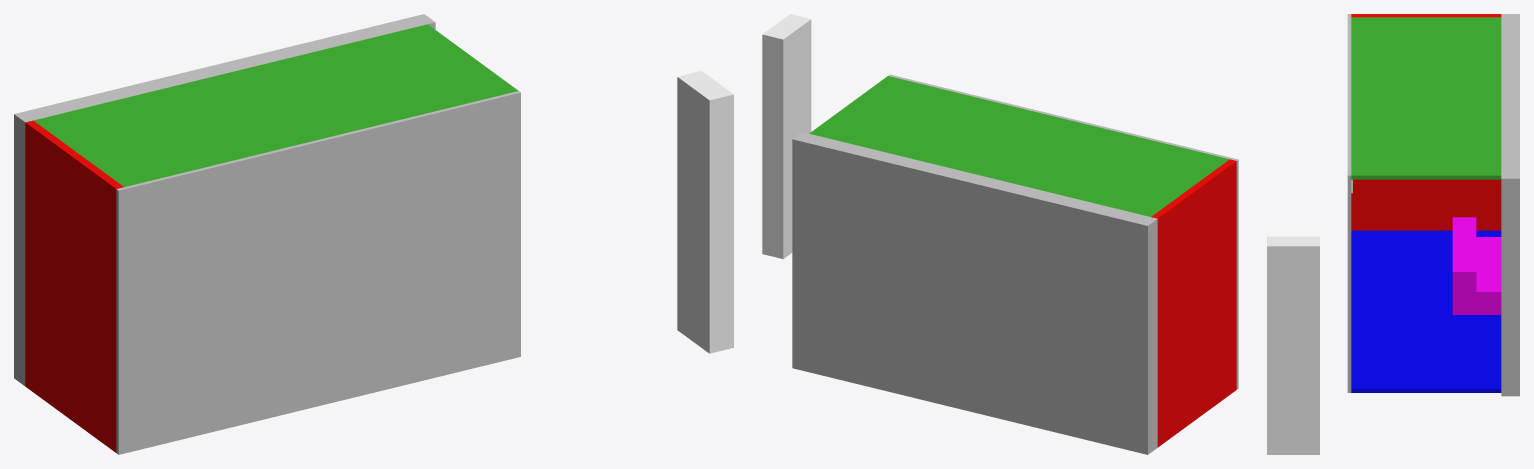
3 renders of one model, left to right at view 1: azimuth 30°, elevation 25°; view 2: azimuth 150°, elevation 25°; view 3: azimuth 270°, elevation 25°, orthographic. The views are drawn at different scales.
Bounding box in the file's own units: 14.36 × 6.4 × 6.75.
